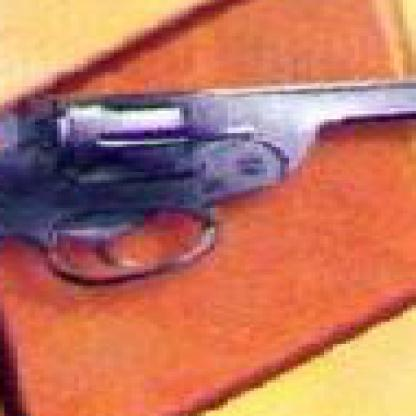gun: (0, 44, 412, 388)
